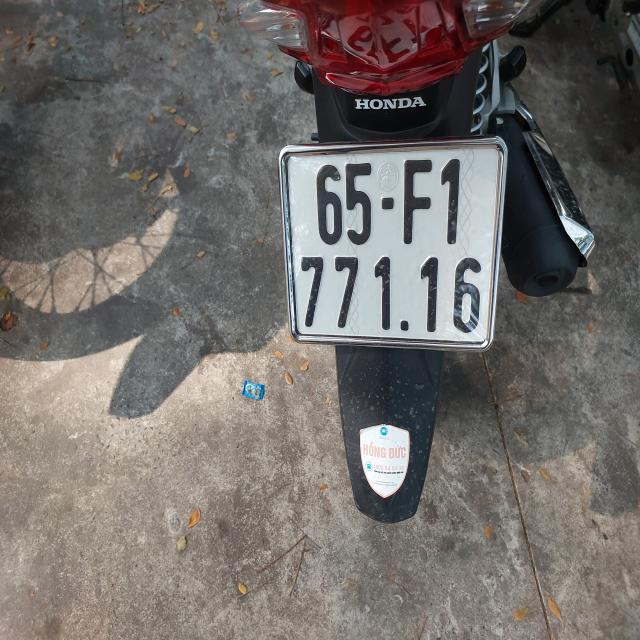1: (437, 156, 470, 248), (368, 252, 396, 329), (415, 253, 441, 330)
5: (343, 160, 375, 249)
6: (315, 158, 347, 252), (451, 252, 483, 336)
7: (296, 248, 326, 330), (333, 253, 357, 334)
F: (398, 153, 434, 243)
